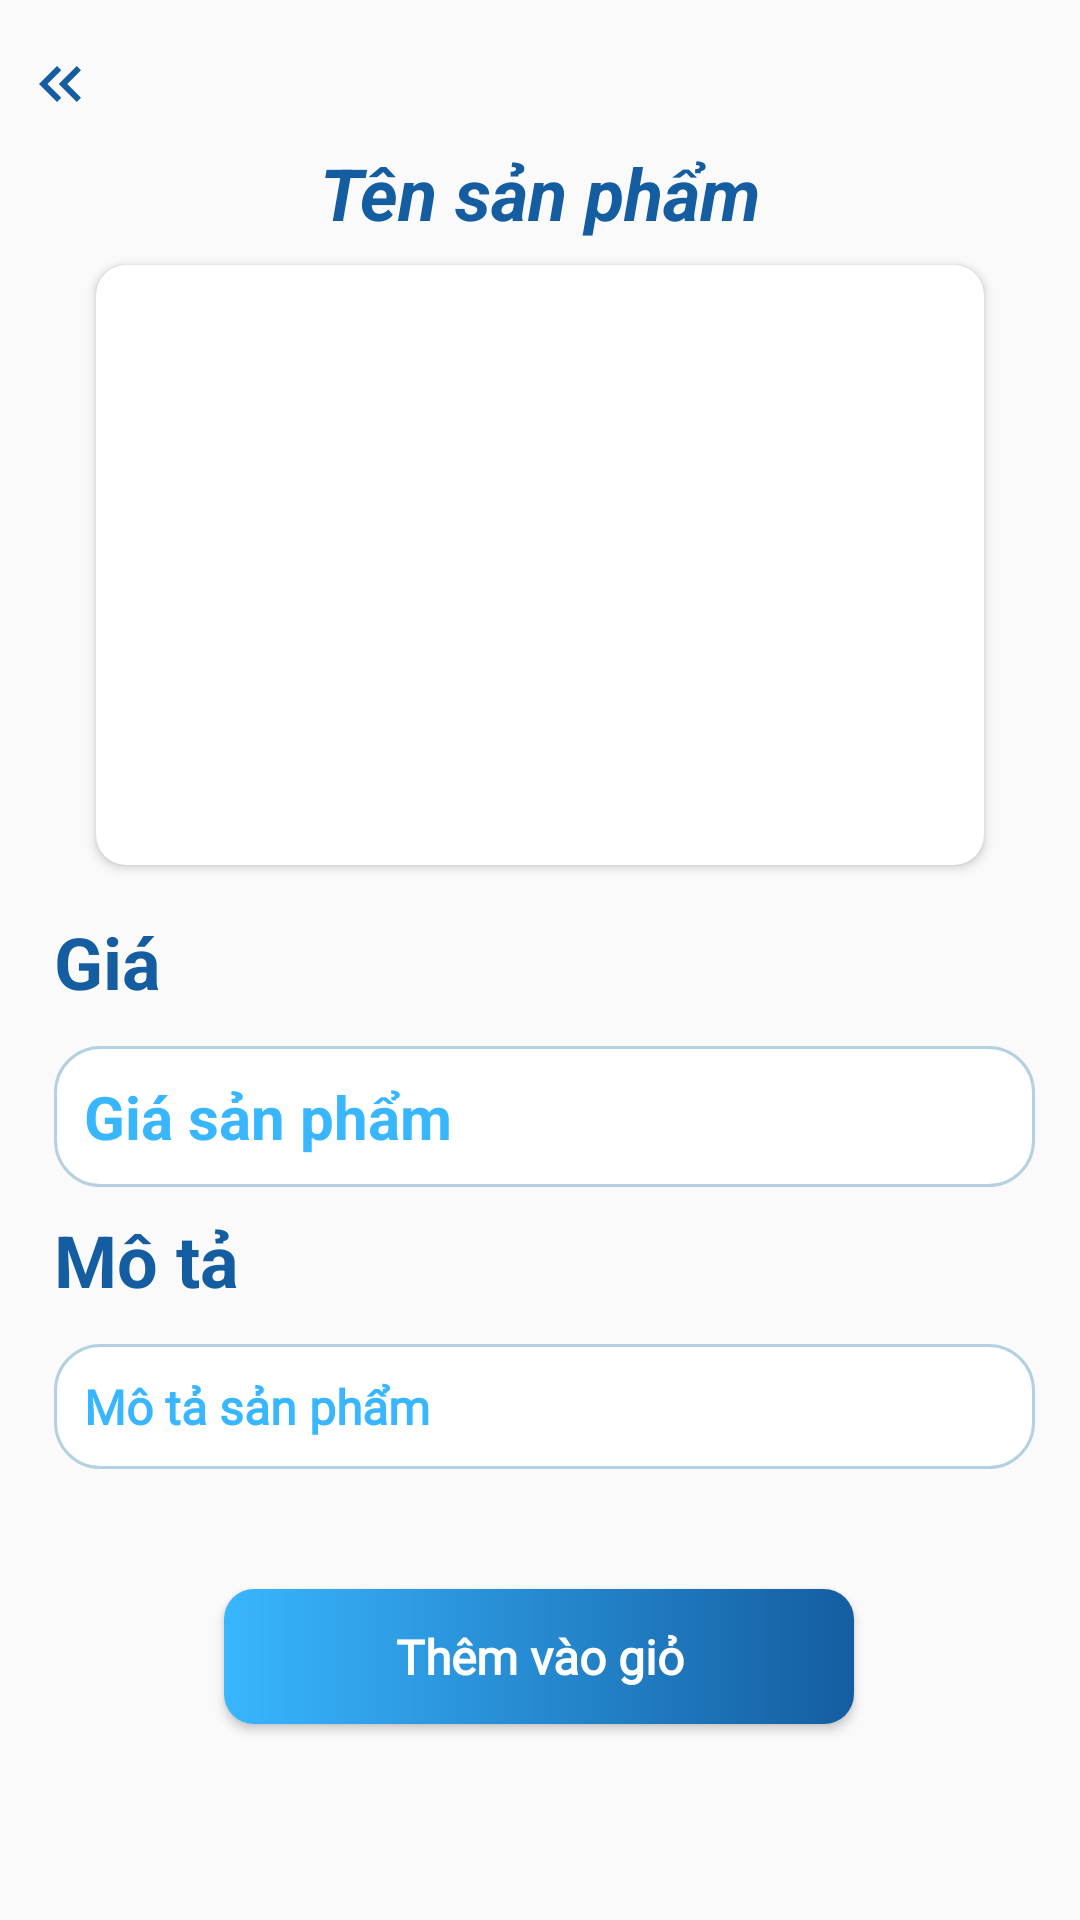

Screen size 1080×1920. Icon name, then its center in pixels as (x=x, y=y):
double arrow left: (x=60, y=84)
